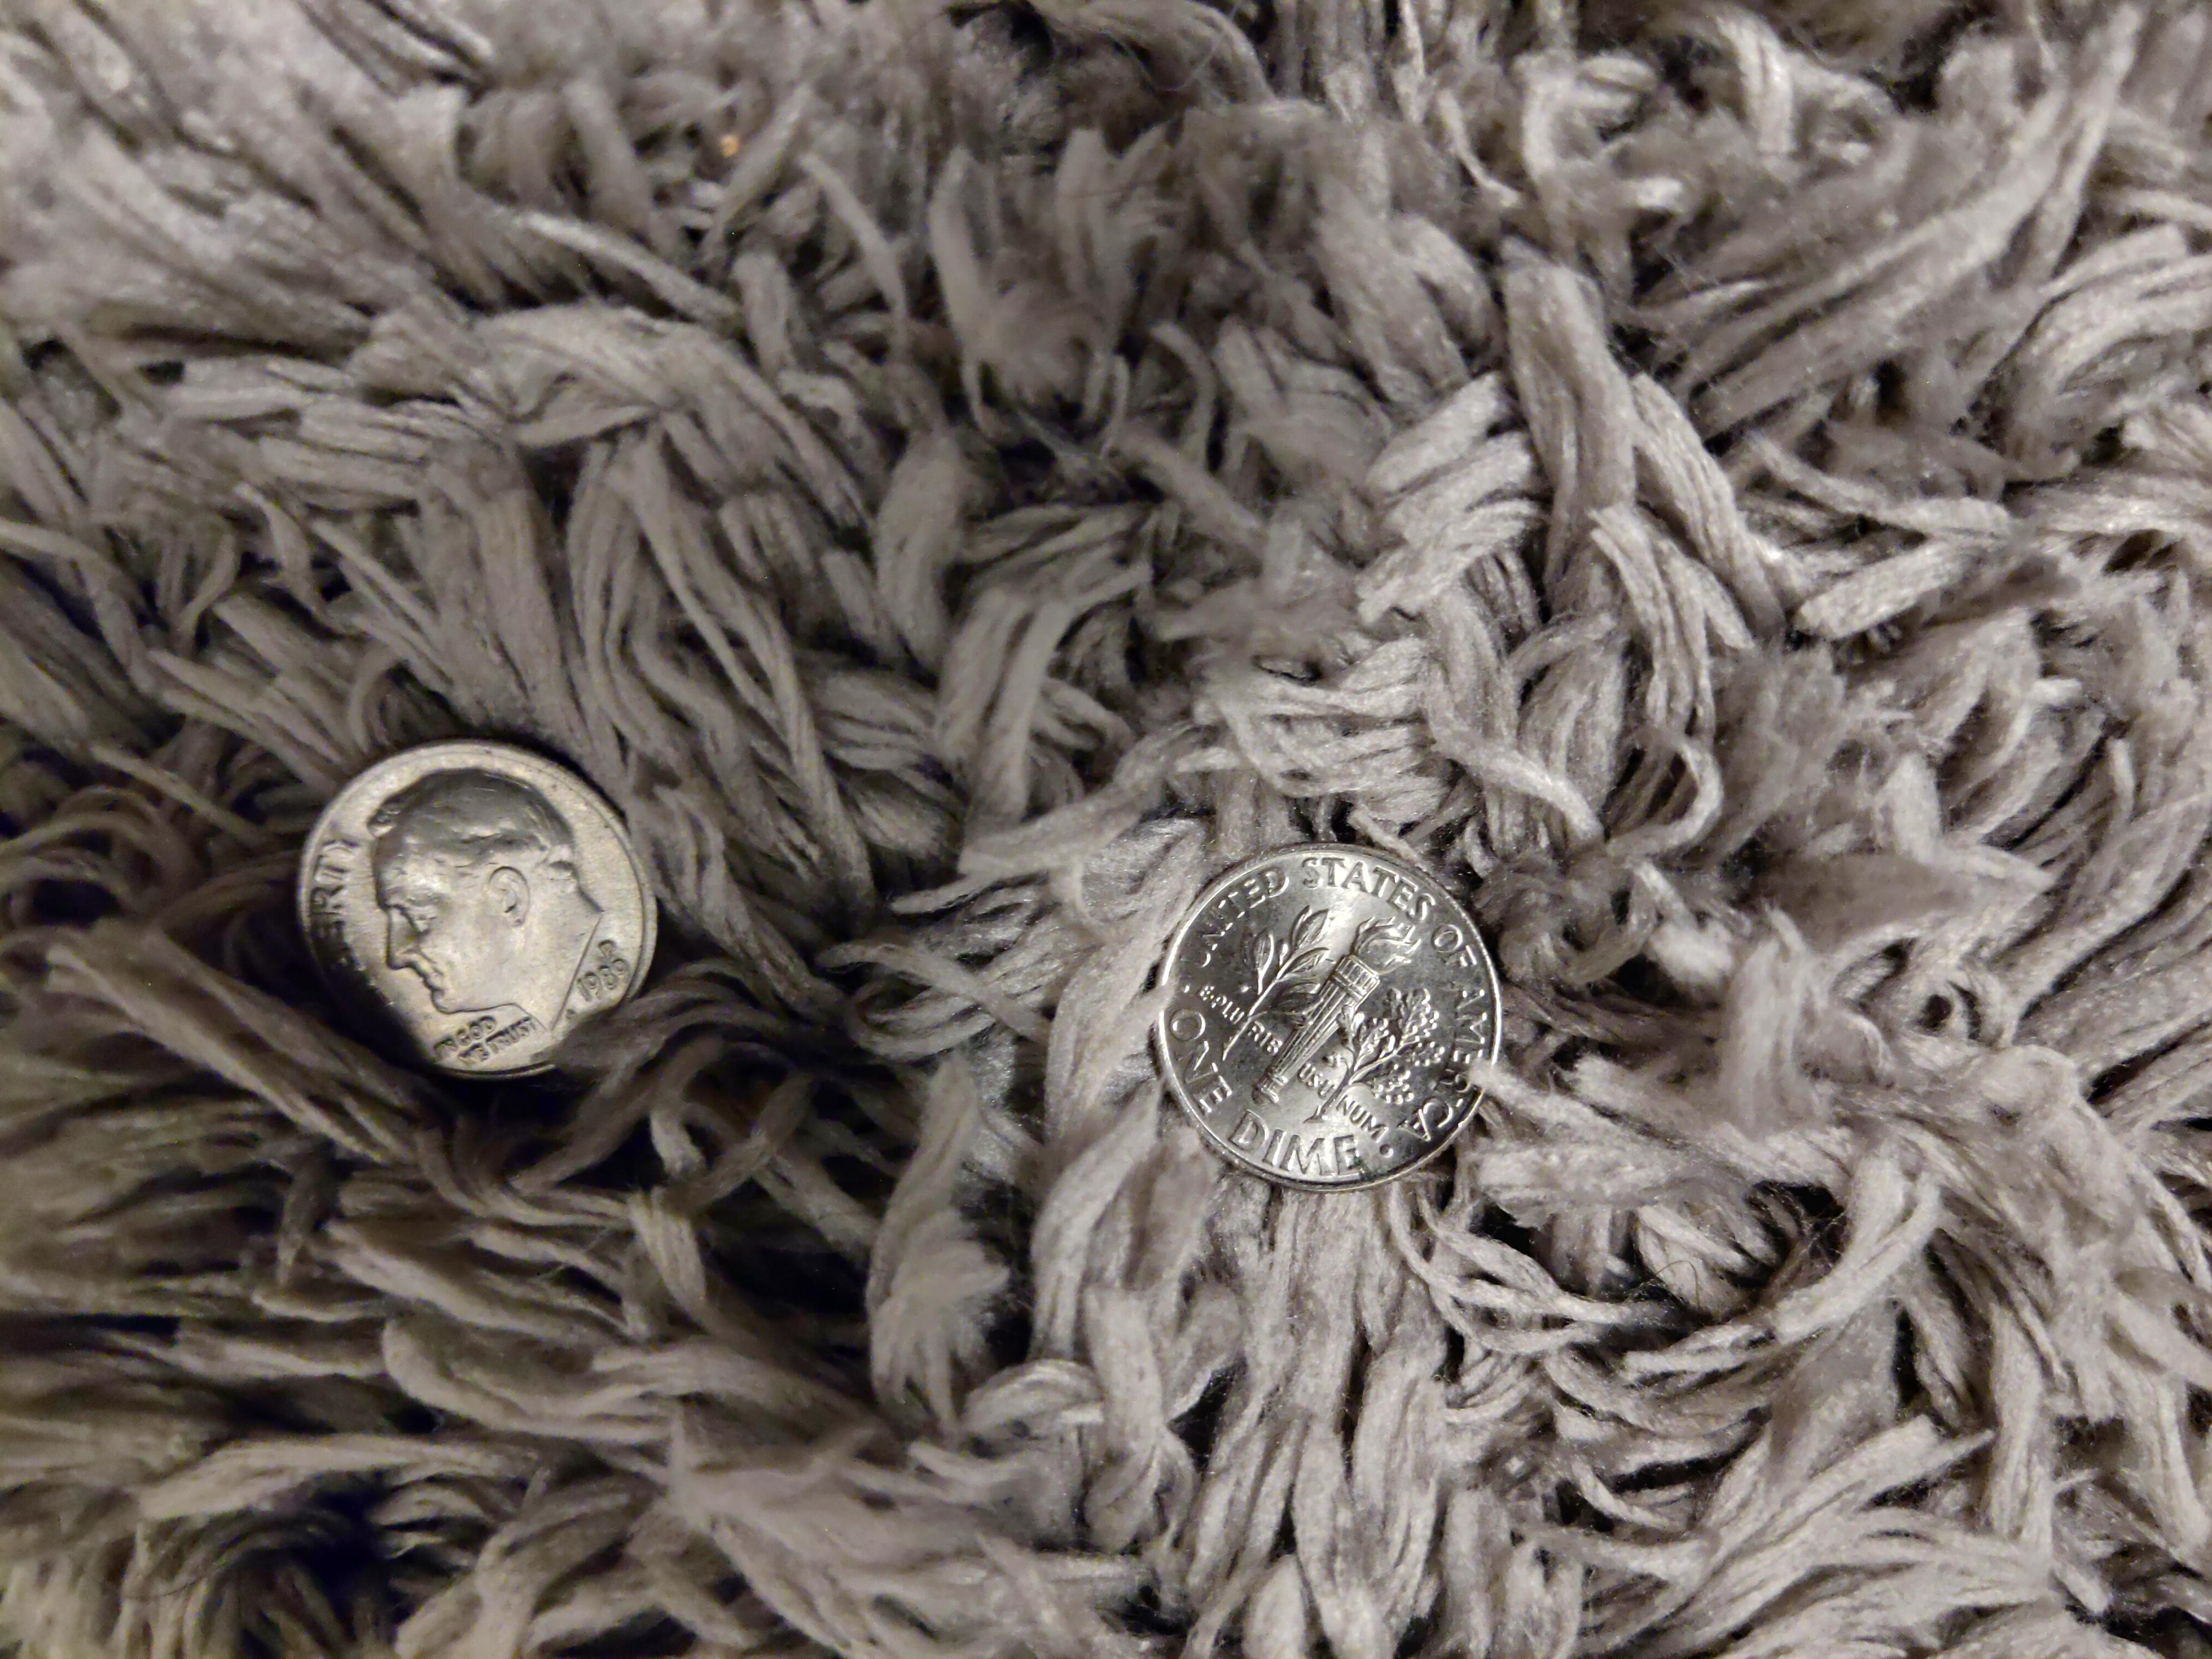Dime: (1146, 835, 1503, 1197), (293, 732, 660, 1082)
